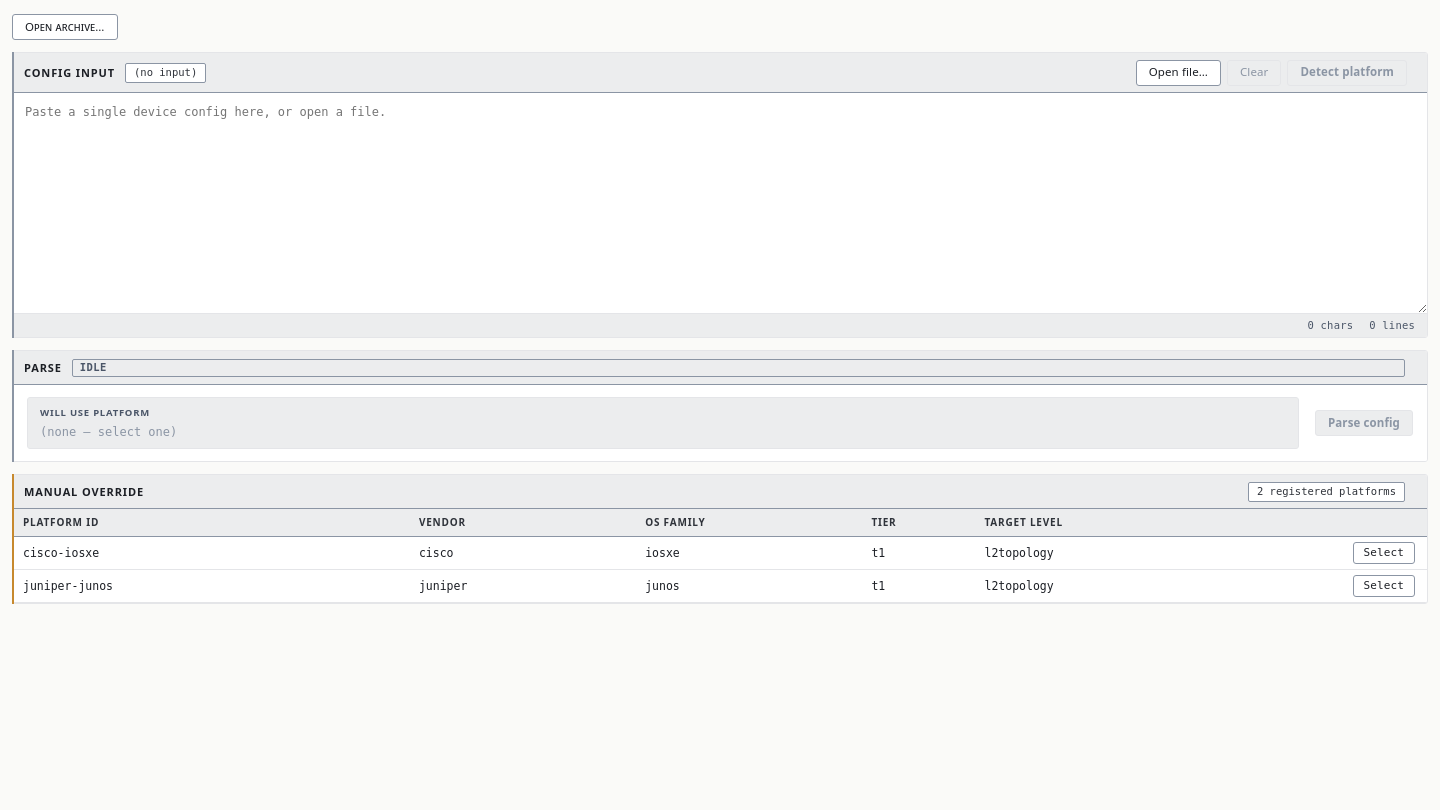
it: IntakePanel × V1Q BatchRun › paste multi-device → Analyse batch → all rows complete → RunSummaryStrip totals correct
Type "x" into the text box named "Config text" at [720, 203], box [13, 93, 1427, 313]
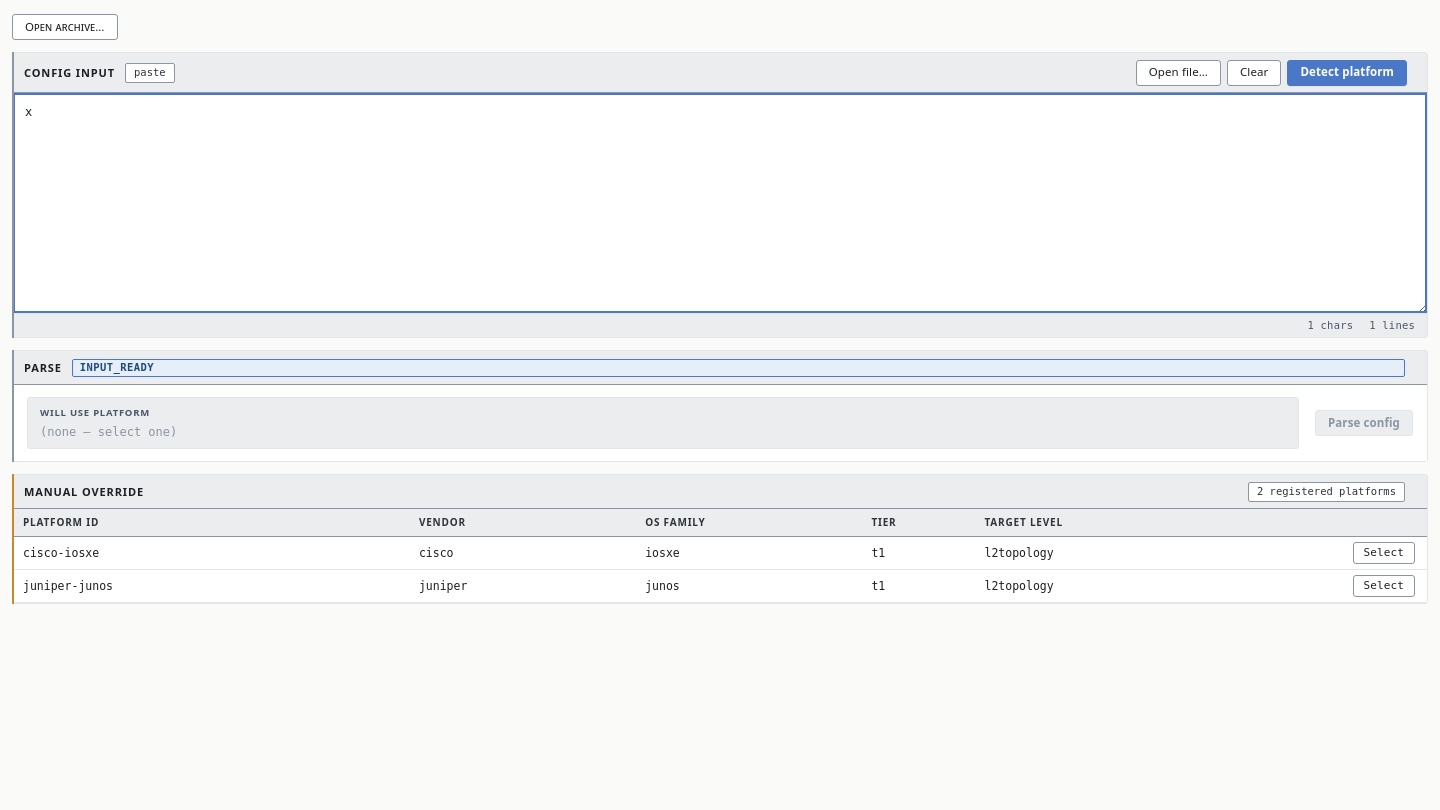
Click the button "Detect platform" at [1347, 72], box [1288, 60, 1407, 86]
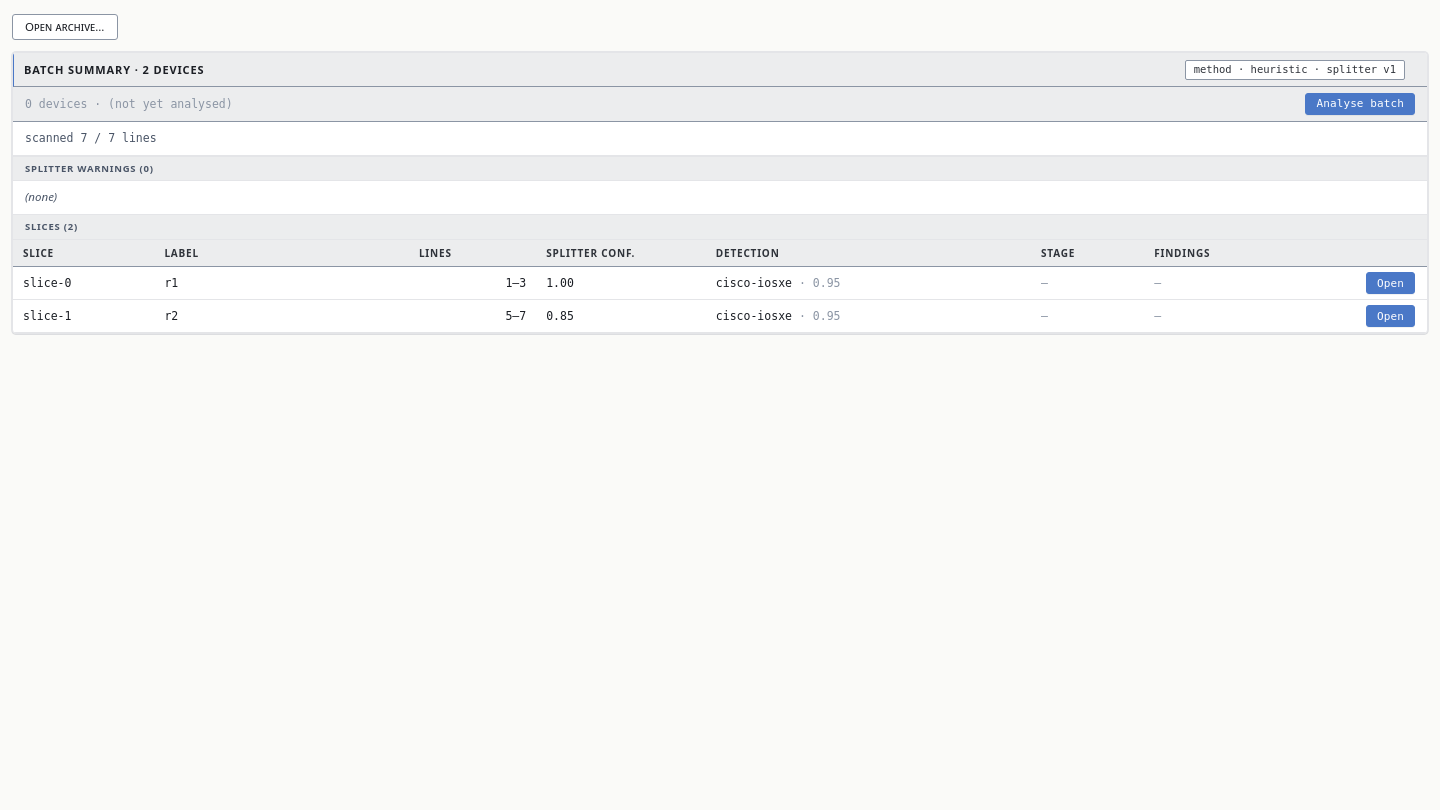
Expected: the button "Re-run analysis" is not shown
Result: the element labelled "BATCH SUMMARY" is shown at [12, 52, 1428, 334]
Result: the button "Analyse batch" is shown
Click the button "Analyse batch" at [1360, 104], box [1306, 93, 1415, 115]
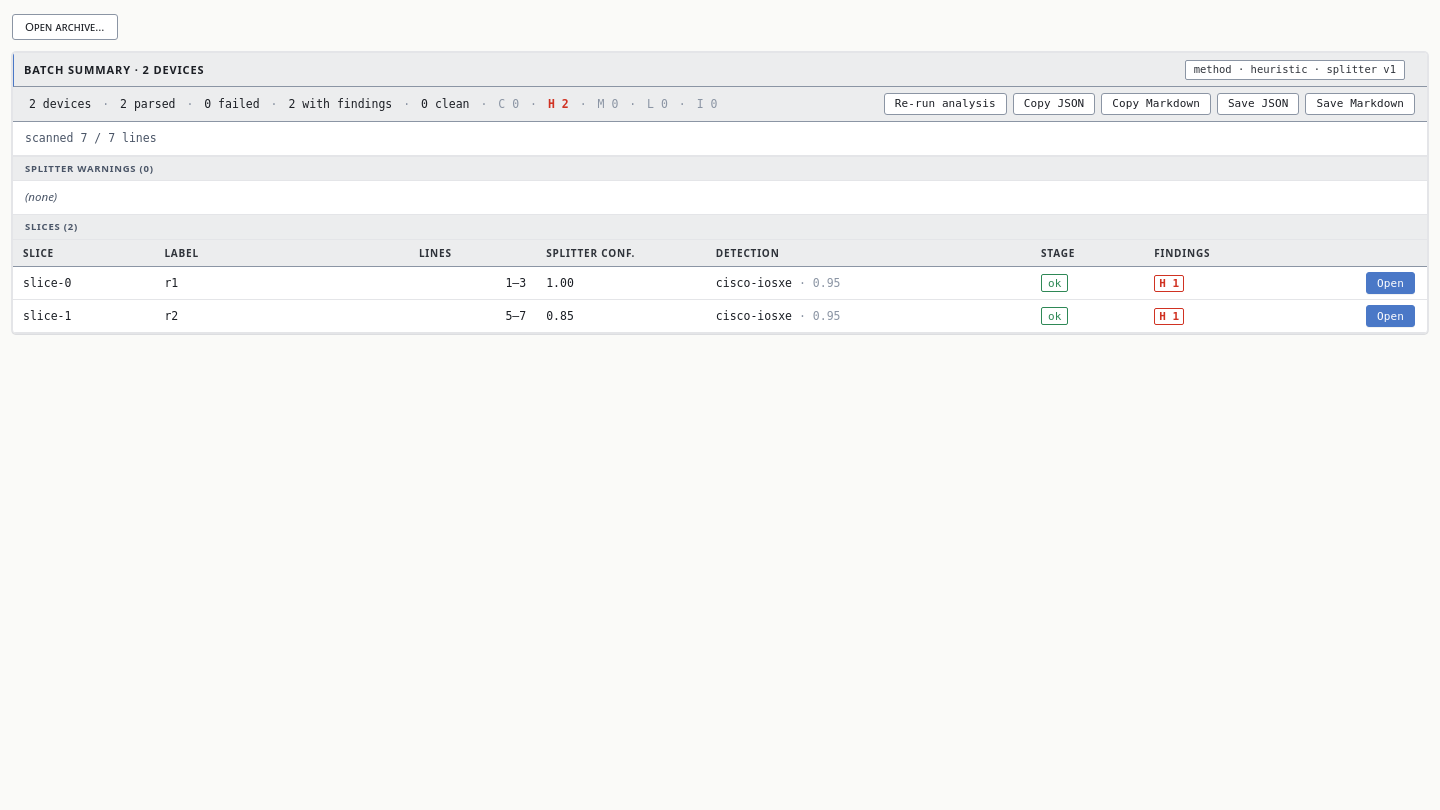
Result: the button "Re-run analysis" is shown at [884, 93, 1007, 115]
Result: the element named "Batch run summary" shows "2 devices" at [29, 97, 91, 111]
Result: the element named "Batch run summary" shows "2 parsed" at [120, 97, 176, 111]
